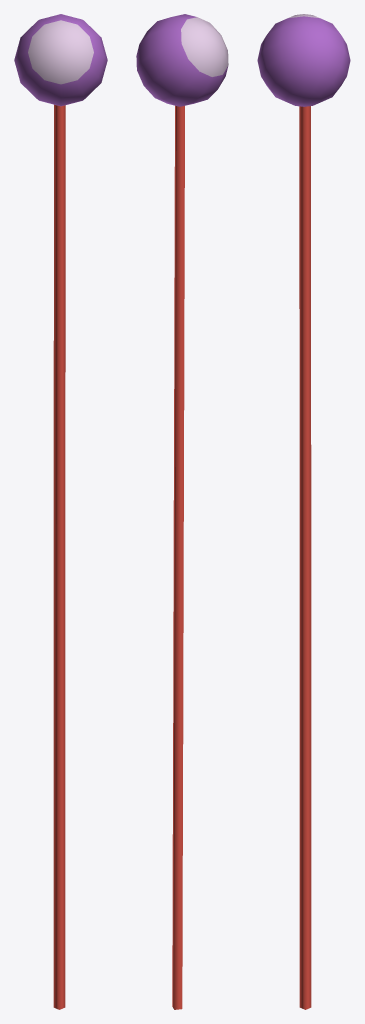
The model's file is tree02.FBX.
The picture shows the model from 3 angles, left to right: view 1: azimuth 90°, elevation 25°; view 2: azimuth 150°, elevation 25°; view 3: azimuth 270°, elevation 25°; orthographic projection.
Visible parts, largest first — view 1: tree02; view 2: tree02; view 3: tree02.
Part boxes in pixels (x1=…): tree02: x1=14, y1=14, x2=107, y2=1009; tree02: x1=136, y1=14, x2=228, y2=1009; tree02: x1=257, y1=14, x2=350, y2=1009.
Size of the model in its own units: 4.92 by 57.87 by 4.95.
1 material, 1 textured.
